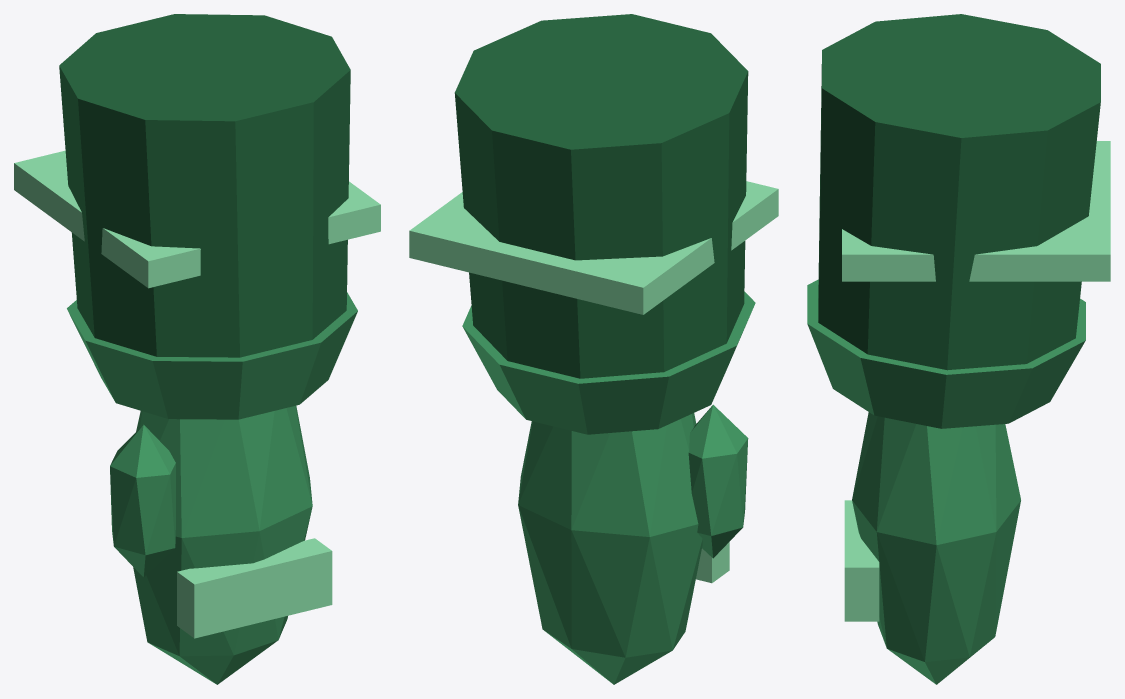
Rendered from gear_adamant_gauntlets_arm_l.glb.
3 views of the same model, side by side, from view 1: azimuth 30°, elevation 25°; view 2: azimuth 150°, elevation 25°; view 3: azimuth 270°, elevation 25° (orthographic).
Visible parts, largest first — view 1: gear_adamant_gauntlets_arm_l; view 2: gear_adamant_gauntlets_arm_l; view 3: gear_adamant_gauntlets_arm_l.
Part boxes in pixels (x1,y1,x2,y2): gear_adamant_gauntlets_arm_l: (14, 14, 380, 684); gear_adamant_gauntlets_arm_l: (409, 14, 778, 684); gear_adamant_gauntlets_arm_l: (807, 14, 1110, 684).
Bounding box in the file's own units: 0.118 × 0.2731 × 0.122.
